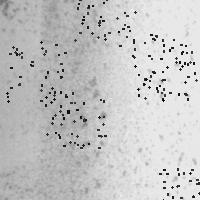pitted_surface: (7, 1, 106, 200), (117, 2, 199, 198), (132, 34, 191, 94), (6, 41, 65, 101), (45, 92, 104, 147), (144, 39, 195, 99), (74, 0, 134, 45), (159, 168, 200, 200)
